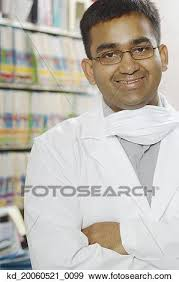Indian_Male: (92, 18, 158, 108)
